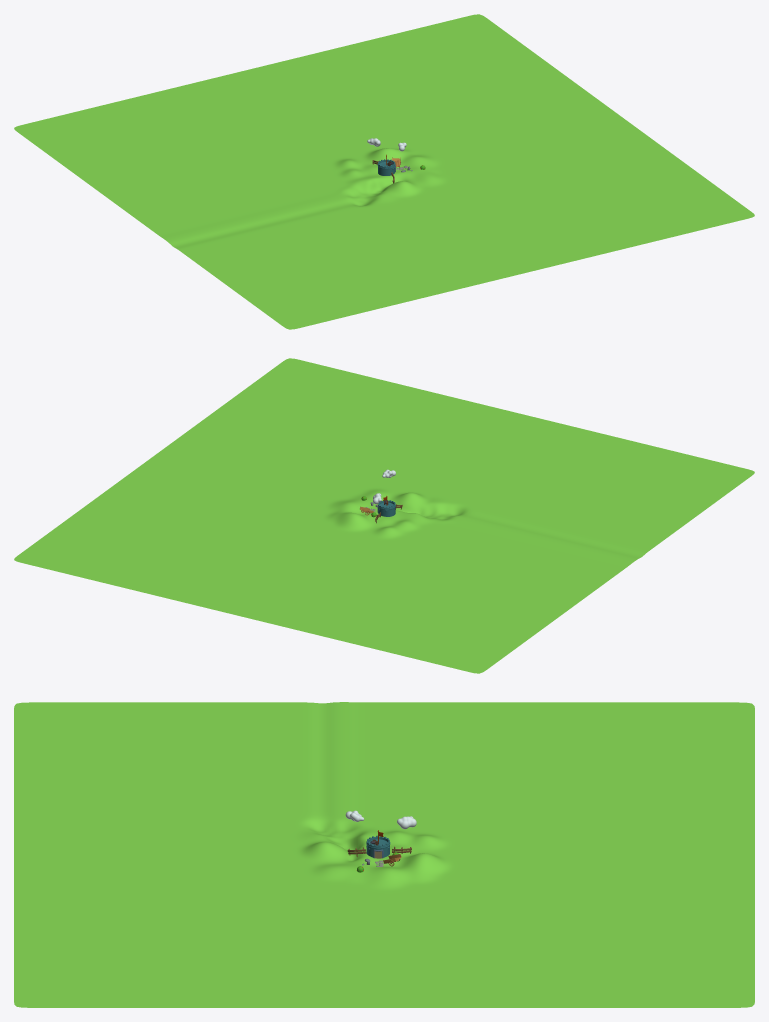
The model's file is castle.glb.
3 views of the same model, one above another, from view 1: azimuth 30°, elevation 25°; view 2: azimuth 150°, elevation 25°; view 3: azimuth 270°, elevation 25° (orthographic). The views are drawn at different scales.
Parts seen in each view (by area): view 1: ground; view 2: ground; view 3: ground.
Boxes of the visible parts, x1,y1,x2,y2 form: ground: (14, 14, 754, 329); ground: (14, 358, 754, 673); ground: (14, 702, 754, 1007).
Bounding box in the file's own units: 61.9 × 5.24 × 63.47.
